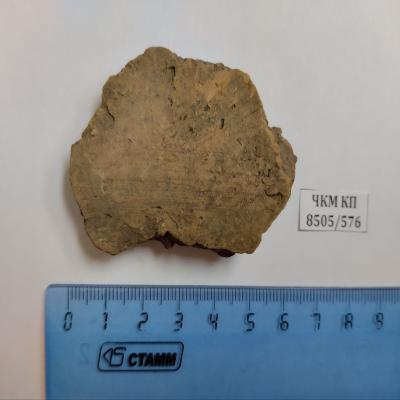archeology: (68, 47, 297, 258)
